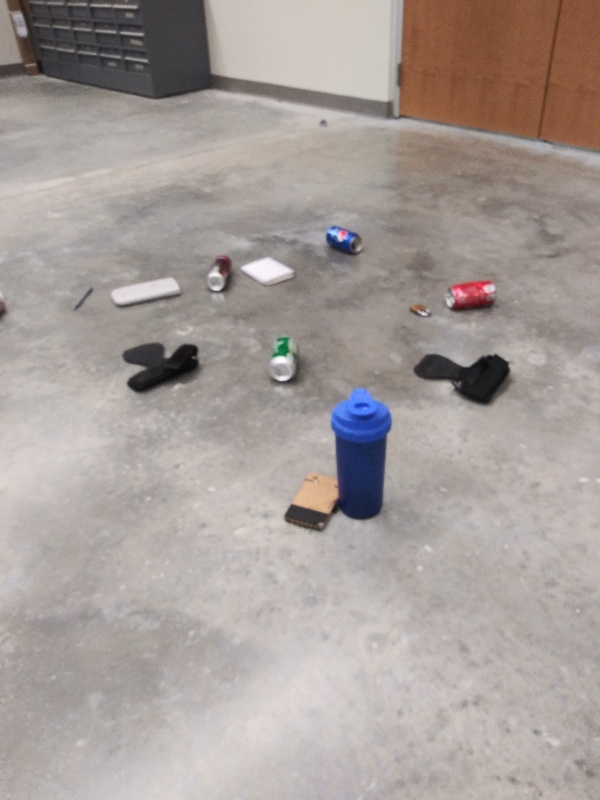can: (443, 275, 504, 315), (264, 330, 306, 387), (204, 250, 240, 298), (324, 221, 365, 260)
